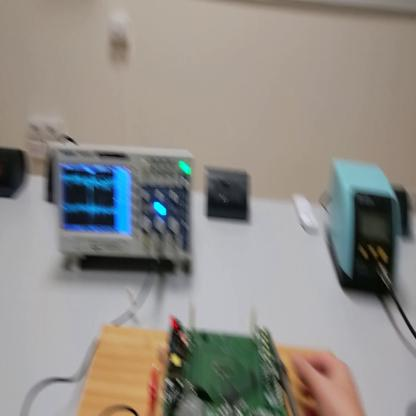hand: (290, 348, 363, 415)
low voltage board: (160, 295, 287, 413)
oscilloscope: (55, 142, 196, 279)
oscilloscope probe tip: (269, 327, 295, 416)
socket: (2, 146, 25, 197), (394, 185, 408, 230), (44, 148, 55, 201)
welder station: (329, 159, 399, 294)
working area: (78, 325, 335, 415)
